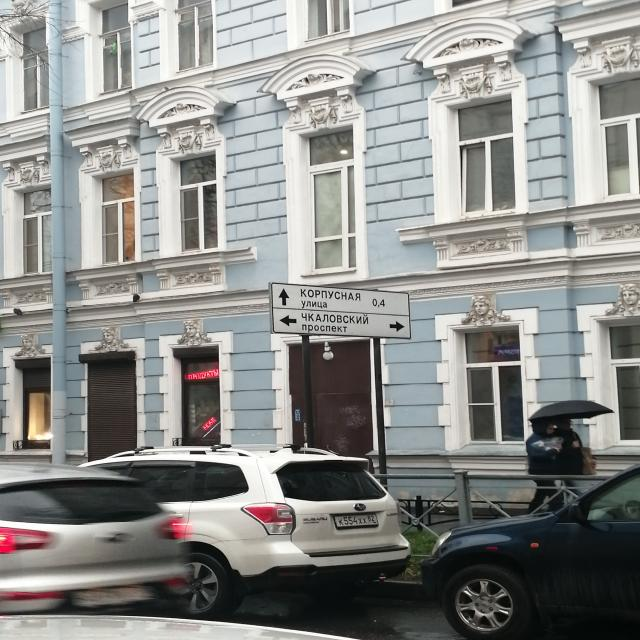road sign: (270, 282, 412, 339), (372, 336, 382, 487), (303, 336, 314, 453)
